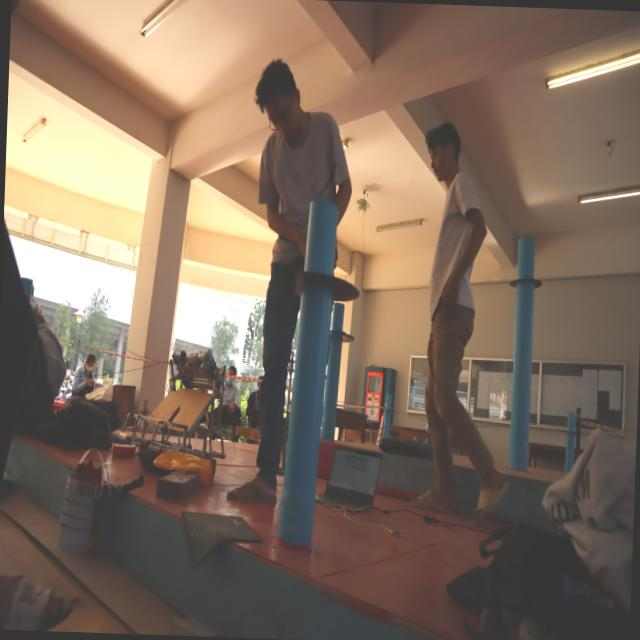pole: (274, 182, 370, 373), (500, 228, 548, 343)
